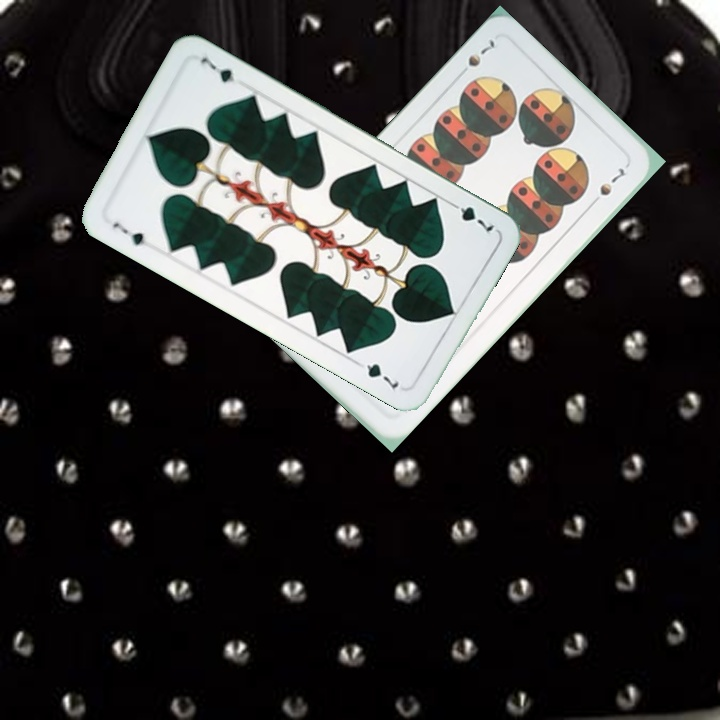G7: (444, 197, 497, 235), (109, 218, 148, 248)
S7: (452, 34, 498, 81)
